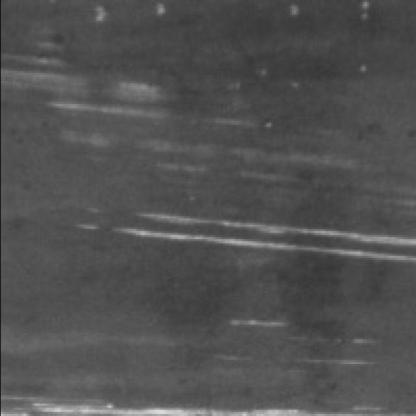scratches: (66, 210, 414, 264)
